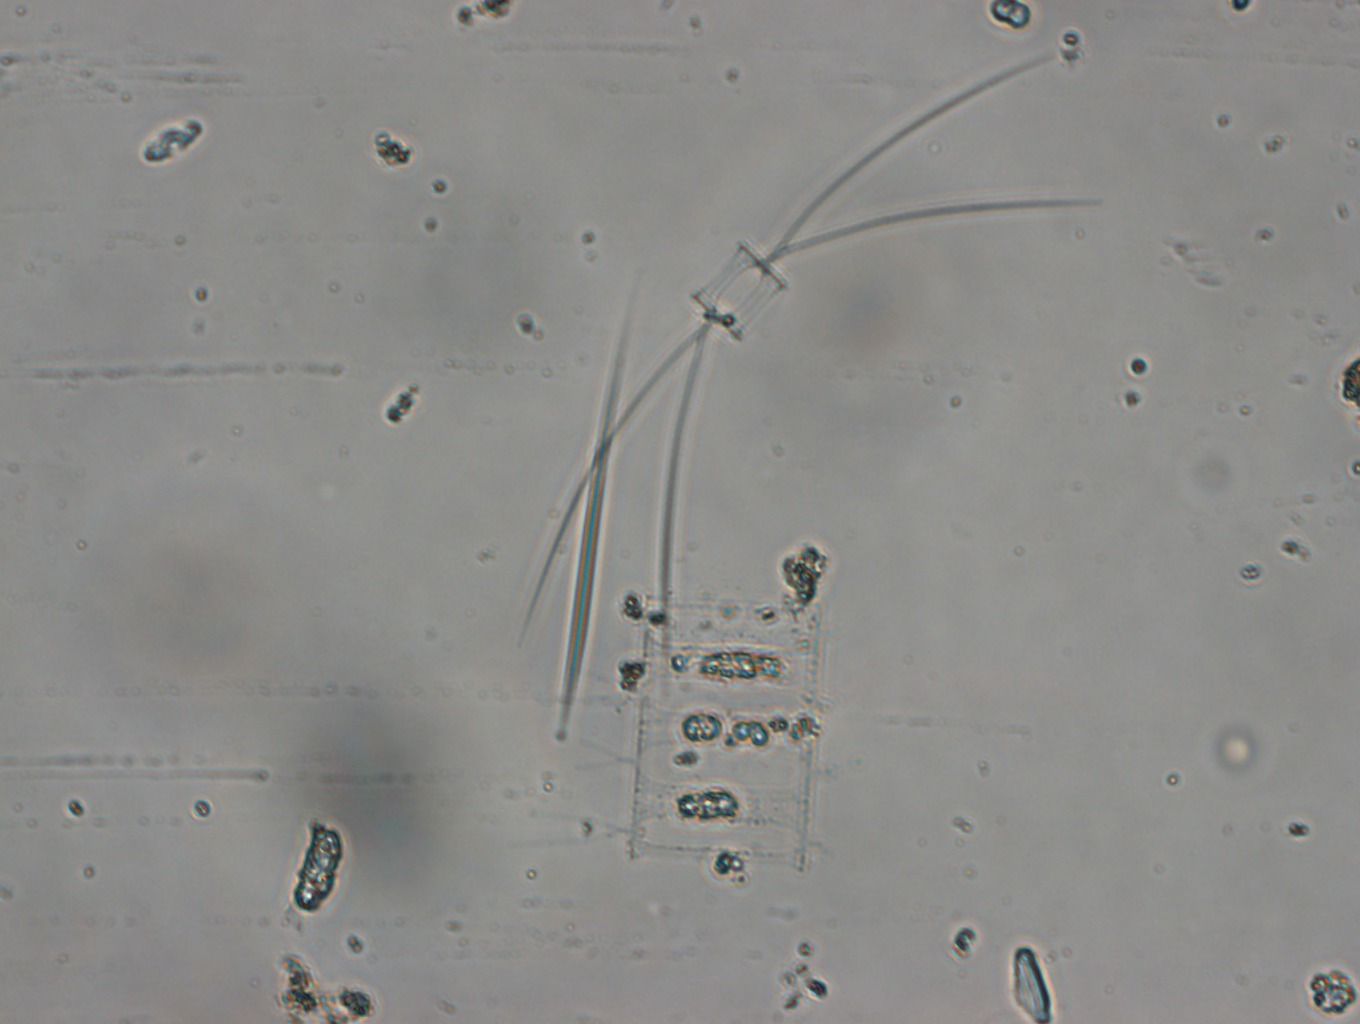chaetoceros: (509, 35, 1111, 707)
